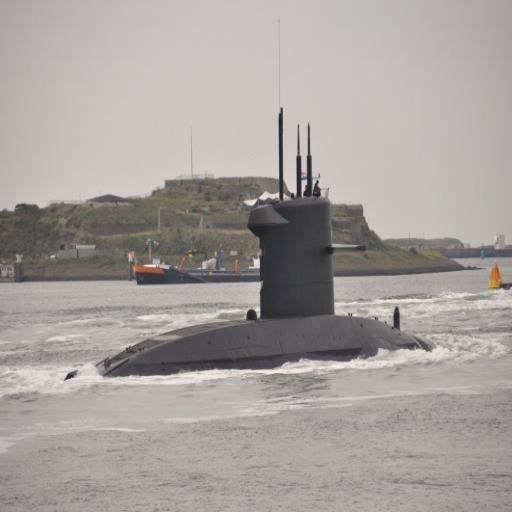submarine: (65, 198, 445, 378)
